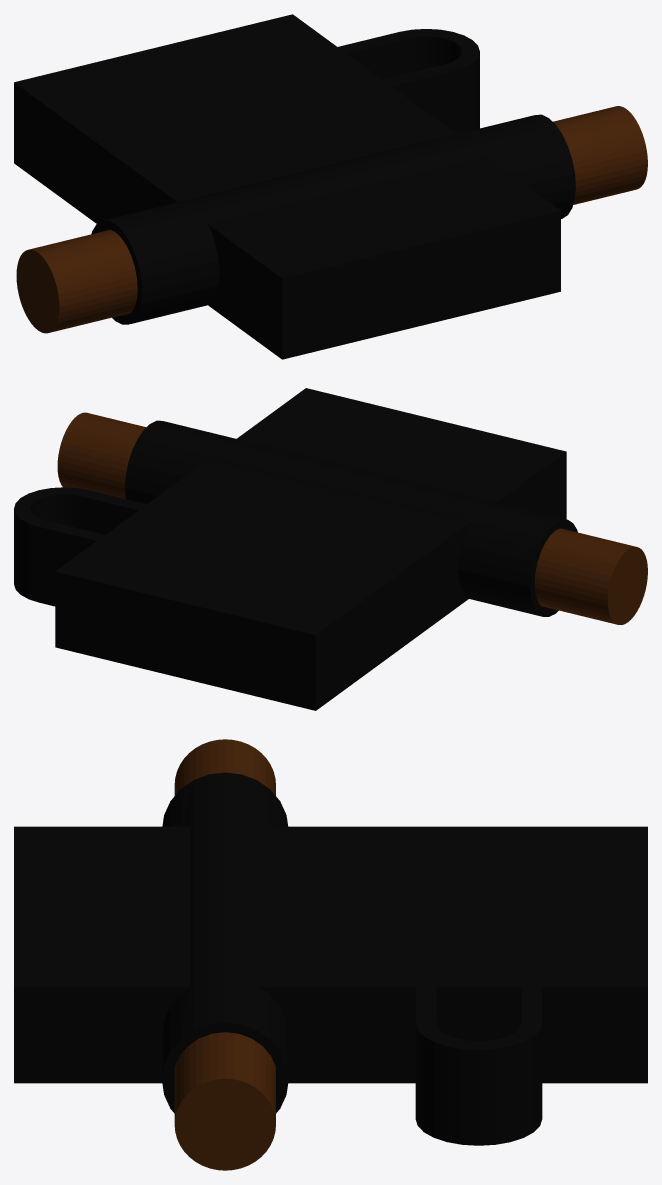
The model's file is Terminal.fbx.
3 renders of one model, top to bottom at view 1: azimuth 30°, elevation 25°; view 2: azimuth 150°, elevation 25°; view 3: azimuth 270°, elevation 25°, orthographic. The views are drawn at different scales.
Visible parts, largest first — view 1: Shape_IndexedFaceSet, Shape_IndexedFaceSet.001, Shape_IndexedFaceSet.002; view 2: Shape_IndexedFaceSet, Shape_IndexedFaceSet.001, Shape_IndexedFaceSet.002; view 3: Shape_IndexedFaceSet, Shape_IndexedFaceSet.002, Shape_IndexedFaceSet.001.
Boxes of the visible parts, x1,y1,x2,y2 form: Shape_IndexedFaceSet: [14, 14, 575, 359]; Shape_IndexedFaceSet.001: [16, 229, 137, 333]; Shape_IndexedFaceSet.002: [553, 106, 647, 204]; Shape_IndexedFaceSet: [14, 388, 577, 710]; Shape_IndexedFaceSet.001: [534, 528, 647, 624]; Shape_IndexedFaceSet.002: [57, 412, 145, 498]; Shape_IndexedFaceSet: [14, 772, 647, 1145]; Shape_IndexedFaceSet.002: [174, 1032, 275, 1170]; Shape_IndexedFaceSet.001: [174, 739, 275, 795].
Bounding box in the file's own units: 3.8 × 0.6 × 3.
